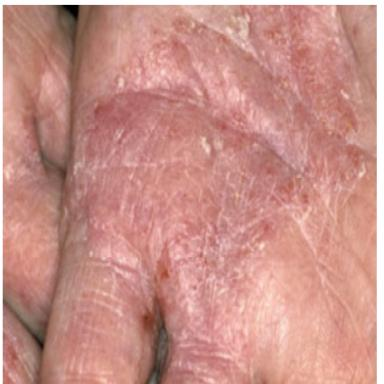eczema: (42, 8, 377, 384), (3, 85, 63, 318)
